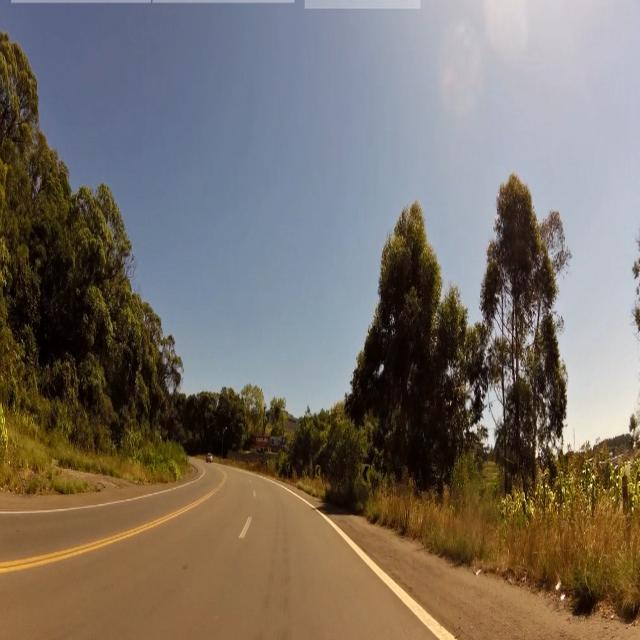Del: (361, 466, 370, 488)
